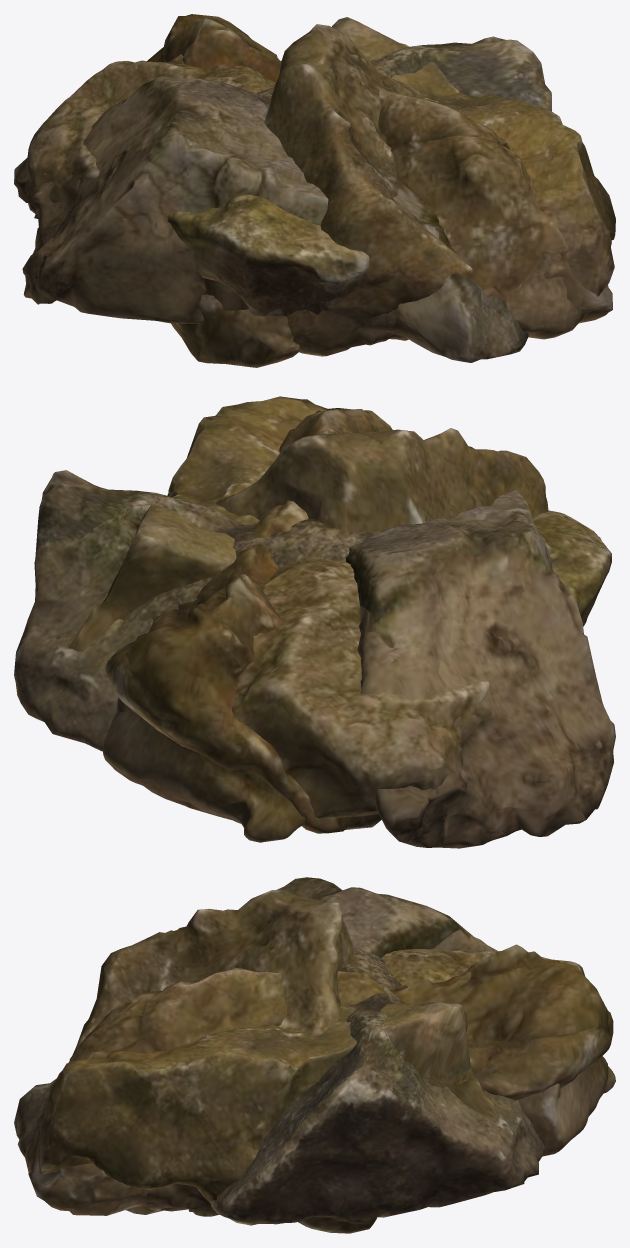
The model's file is mossy_rocks.glb.
3 views of the same model, one above another, from view 1: azimuth 30°, elevation 25°; view 2: azimuth 150°, elevation 25°; view 3: azimuth 270°, elevation 25° (orthographic). The views are drawn at different scales.
Parts seen in each view (by area): view 1: rock_moss_set_01_rock02, rock_moss_set_01_rock01, rock_moss_set_01_rock04, rock_moss_set_01_rock05, rock_moss_set_01_rock06, rock_moss_set_01_rock03; view 2: rock_moss_set_01_rock02, rock_moss_set_01_rock05, rock_moss_set_01_rock03, rock_moss_set_01_rock01, rock_moss_set_01_rock04, rock_moss_set_01_rock06; view 3: rock_moss_set_01_rock06, rock_moss_set_01_rock03, rock_moss_set_01_rock01, rock_moss_set_01_rock04, rock_moss_set_01_rock02, rock_moss_set_01_rock05.
Boxes of the visible parts, <box> form: rock_moss_set_01_rock02: <box>14,76,528,362</box>; rock_moss_set_01_rock01: <box>147,14,612,367</box>; rock_moss_set_01_rock04: <box>264,24,473,356</box>; rock_moss_set_01_rock05: <box>26,54,369,316</box>; rock_moss_set_01_rock06: <box>332,17,615,339</box>; rock_moss_set_01_rock03: <box>257,36,551,111</box>; rock_moss_set_01_rock02: <box>346,490,615,848</box>; rock_moss_set_01_rock05: <box>103,510,611,842</box>; rock_moss_set_01_rock03: <box>14,470,381,751</box>; rock_moss_set_01_rock01: <box>104,408,392,833</box>; rock_moss_set_01_rock04: <box>216,428,548,532</box>; rock_moss_set_01_rock06: <box>68,396,327,651</box>; rock_moss_set_01_rock06: <box>25,1002,499,1225</box>; rock_moss_set_01_rock03: <box>211,948,544,1223</box>; rock_moss_set_01_rock01: <box>28,944,613,1222</box>; rock_moss_set_01_rock04: <box>72,889,377,1233</box>; rock_moss_set_01_rock02: <box>14,877,497,1157</box>; rock_moss_set_01_rock05: <box>381,949,615,1156</box>.
Size of the model in its own units: 3.32 by 1.77 by 3.46.
Materials: 1 (1 with a texture image).
